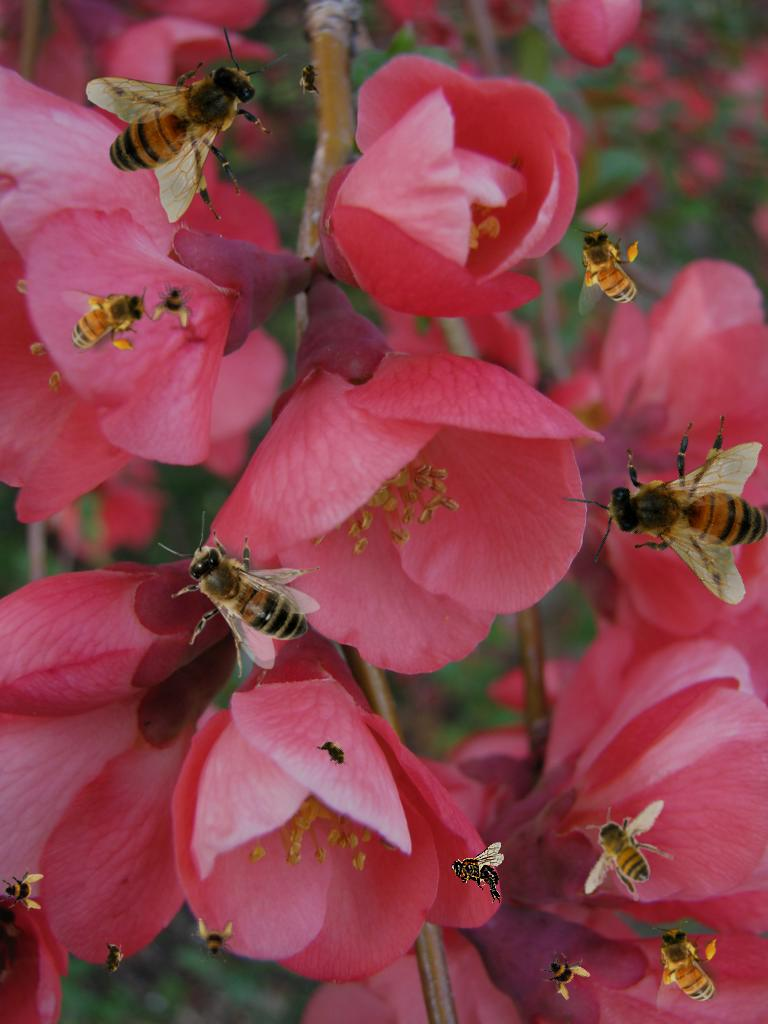Bee: (543, 368, 768, 652), (85, 24, 289, 223), (158, 511, 320, 678), (569, 782, 688, 914), (574, 223, 642, 316), (59, 286, 152, 354), (652, 921, 720, 1014), (534, 942, 596, 1004), (451, 842, 504, 904), (149, 279, 201, 331), (312, 730, 356, 776), (191, 918, 235, 962), (0, 867, 44, 911), (97, 937, 127, 981), (299, 58, 321, 98)
